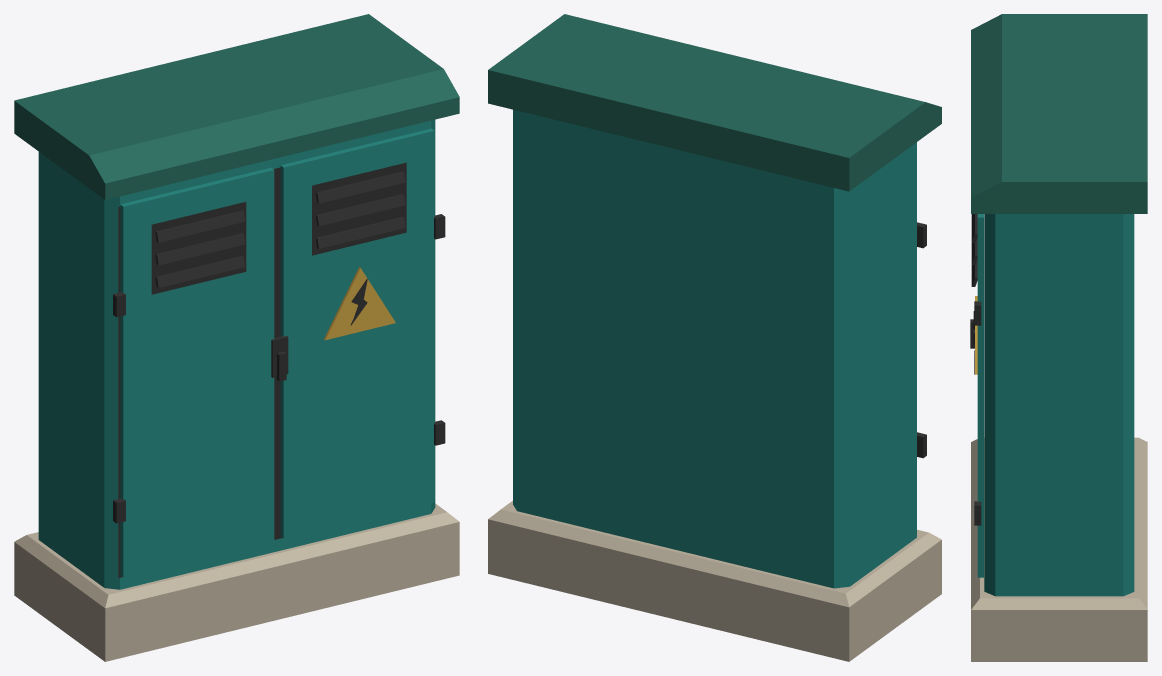
The model's file is elektrik_kutusu.glb.
The picture shows the model from 3 angles, left to right: view 1: azimuth 30°, elevation 25°; view 2: azimuth 150°, elevation 25°; view 3: azimuth 270°, elevation 25°; orthographic projection. The views are drawn at different scales.
Visible parts, largest first — view 1: elektrik_kutusu; view 2: elektrik_kutusu; view 3: elektrik_kutusu.
Boxes of the visible parts, left/top/right/bottom form: elektrik_kutusu: left=14, top=14, right=459, bottom=661; elektrik_kutusu: left=488, top=14, right=941, bottom=661; elektrik_kutusu: left=970, top=14, right=1147, bottom=661.
Bounding box in the file's own units: 0.9 × 1.2 × 0.402.
